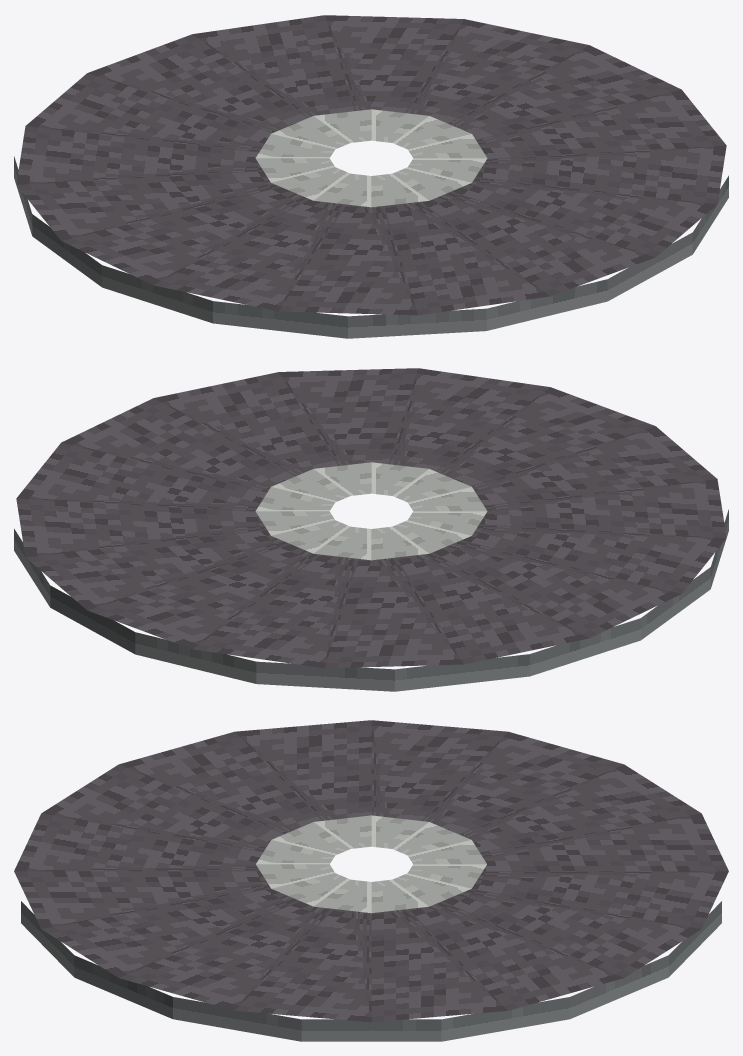
File: grinder_cutoff_disc.glb
The picture shows the model from 3 angles, top to bottom: view 1: azimuth 30°, elevation 25°; view 2: azimuth 150°, elevation 25°; view 3: azimuth 270°, elevation 25°; orthographic projection.
Parts seen in each view (by area): view 1: block_abrasive edge, block_abrasive face 4, block_abrasive face 5, block_abrasive face 6, block_abrasive face 3, block_abrasive face 7, block_abrasive face 2, block_abrasive face 8, block_abrasive face 1, block_abrasive face 9, block_abrasive face 0, block_abrasive face 10 (+17 smaller); view 2: block_abrasive edge, block_abrasive face 11, block_abrasive face 10, block_abrasive face 9, block_abrasive face 8, block_abrasive face 12, block_abrasive face 13, block_abrasive face 7, block_abrasive face 14, block_abrasive face 6, block_abrasive face 15, block_abrasive face 5 (+17 smaller); view 3: block_abrasive edge, block_abrasive face 0, block_abrasive face 15, block_abrasive face 1, block_abrasive face 14, block_abrasive face 2, block_abrasive face 13, block_abrasive face 3, block_abrasive face 12, block_abrasive face 4, block_abrasive face 11, block_abrasive face 5 (+17 smaller).
Part boxes in pixels (x1,y1,x2,y2): block_abrasive edge: (14, 156, 728, 338); block_abrasive face 4: (384, 201, 549, 315); block_abrasive face 5: (279, 204, 417, 315); block_abrasive face 6: (154, 199, 346, 311); block_abrasive face 3: (421, 191, 655, 296); block_abrasive face 7: (62, 187, 309, 285); block_abrasive face 2: (452, 177, 717, 257); block_abrasive face 8: (16, 171, 280, 240); block_abrasive face 1: (476, 145, 726, 204); block_abrasive face 9: (16, 126, 263, 184); block_abrasive face 0: (476, 89, 726, 158); block_abrasive face 10: (26, 73, 271, 152); block_abrasive edge: (14, 509, 728, 691); block_abrasive face 11: (193, 554, 358, 668); block_abrasive face 10: (325, 557, 463, 668); block_abrasive face 9: (396, 552, 588, 664); block_abrasive face 8: (433, 540, 680, 638); block_abrasive face 12: (87, 544, 321, 649); block_abrasive face 13: (25, 530, 290, 610); block_abrasive face 7: (462, 524, 726, 593); block_abrasive face 14: (16, 498, 266, 557); block_abrasive face 6: (479, 479, 726, 537); block_abrasive face 15: (16, 442, 266, 511); block_abrasive face 5: (471, 426, 716, 505); block_abrasive edge: (21, 901, 721, 1041); block_abrasive face 0: (235, 909, 371, 1022); block_abrasive face 15: (371, 909, 507, 1022); block_abrasive face 1: (119, 901, 333, 1010); block_abrasive face 14: (409, 901, 623, 1010); block_abrasive face 2: (41, 889, 300, 977); block_abrasive face 13: (442, 889, 701, 977); block_abrasive face 3: (14, 871, 270, 928); block_abrasive face 12: (472, 871, 728, 928); block_abrasive face 4: (14, 813, 262, 871); block_abrasive face 11: (480, 813, 728, 871); block_abrasive face 5: (41, 764, 283, 852).
Size of the model in its own units: 0.1184 by 0.00536 by 0.1184.
Materials: 1 (1 with a texture image).
